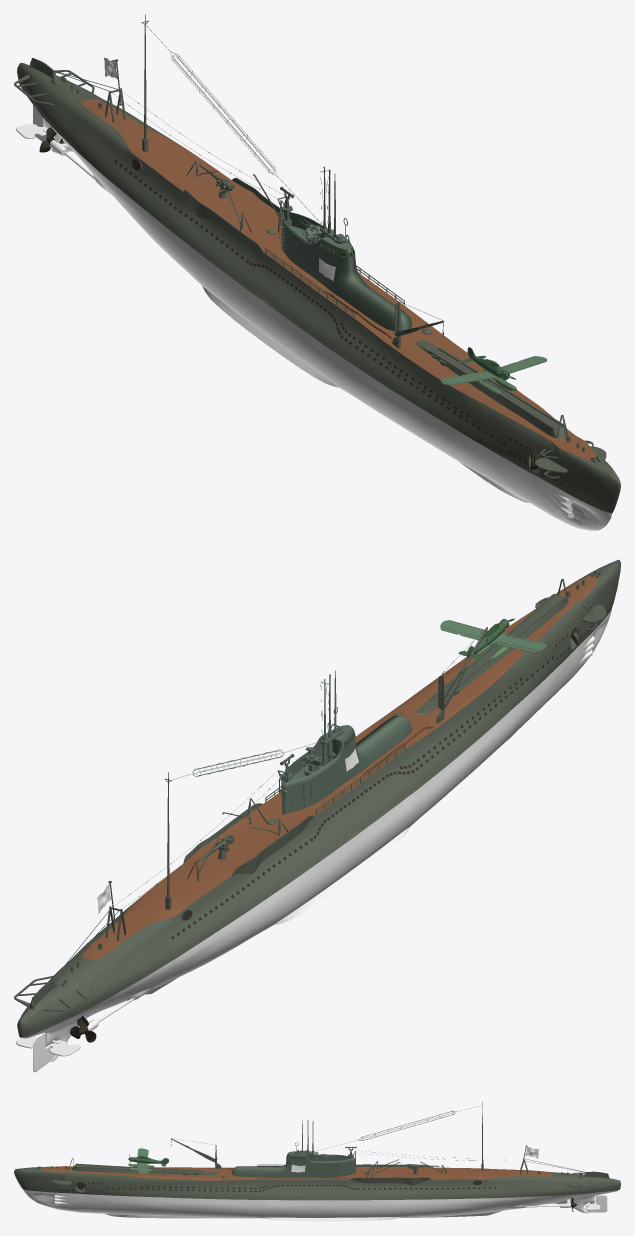
3 views of the same model, one above another, from view 1: azimuth 30°, elevation 25°; view 2: azimuth 150°, elevation 25°; view 3: azimuth 270°, elevation 25° (orthographic). The views are drawn at different scales.
Parts seen in each view (by area): view 1: SUBMASUP, CASCOSUBMA, cubierta01, TORRESUBMA, CABLESSUBMA, VENTANAS, ALAHIDRO; view 2: SUBMASUP, CASCOSUBMA, cubierta01, TORRESUBMA, VENTANAS, ALAHIDRO, CABLESSUBMA; view 3: SUBMASUP, CASCOSUBMA, cubierta01, TORRESUBMA, VENTANAS, CABLESSUBMA, ALAHIDRO, HIDRO.
Boxes of the visible parts, x1,y1,x2,y2 form: SUBMASUP: [14, 14, 620, 513]; CASCOSUBMA: [16, 105, 612, 530]; cubierta01: [80, 98, 597, 462]; TORRESUBMA: [277, 166, 412, 330]; CABLESSUBMA: [54, 23, 328, 225]; VENTANAS: [114, 159, 561, 484]; ALAHIDRO: [440, 356, 546, 385]; SUBMASUP: [14, 559, 620, 1037]; CASCOSUBMA: [16, 609, 611, 1072]; cubierta01: [81, 575, 600, 960]; TORRESUBMA: [278, 670, 412, 814]; VENTANAS: [171, 626, 592, 939]; ALAHIDRO: [440, 620, 546, 652]; CABLESSUBMA: [54, 682, 328, 978]; SUBMASUP: [14, 1101, 620, 1200]; CASCOSUBMA: [23, 1189, 618, 1221]; cubierta01: [38, 1166, 552, 1180]; TORRESUBMA: [232, 1120, 356, 1177]; VENTANAS: [58, 1180, 495, 1191]; CABLESSUBMA: [316, 1105, 585, 1172]; ALAHIDRO: [137, 1148, 148, 1173]; HIDRO: [130, 1157, 168, 1166].
Size of the model in its own units: 1448 by 3000 by 14657.
